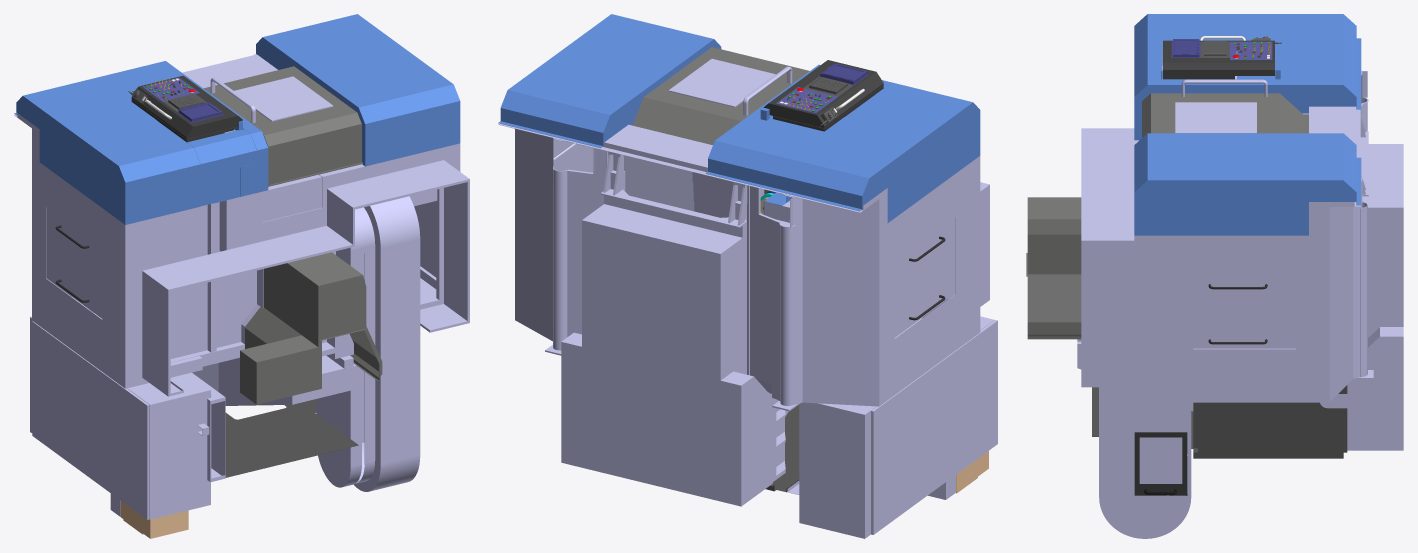
Rendered from CNC.fbx.
3 views of the same model, side by side, from view 1: azimuth 30°, elevation 25°; view 2: azimuth 150°, elevation 25°; view 3: azimuth 270°, elevation 25° (orthographic). The views are drawn at different scales.
Visible parts, largest first — view 1: Part 2, Part 9, Part, Part 29, Part 8, Part 28, Part 30, Part 25, Part 26, Part 27; view 2: Part 2, Part 9, Part, Part 8, Part 28, Part 29, Part 25, Part 26, Part 27, Part 30; view 3: Part 2, Part 9, Part, Part 8, Part 29, Part 28, Part 17, Part 26, Part 25, Part 27.
Boxes of the visible parts, bbox=[...] form: Part 2: bbox=[14, 54, 469, 519]; Part 9: bbox=[14, 14, 460, 224]; Part: bbox=[203, 66, 382, 404]; Part 29: bbox=[225, 399, 358, 477]; Part 8: bbox=[46, 201, 436, 318]; Part 28: bbox=[131, 75, 242, 142]; Part 30: bbox=[120, 500, 188, 538]; Part 25: bbox=[128, 83, 206, 112]; Part 26: bbox=[142, 77, 199, 101]; Part 27: bbox=[177, 102, 223, 122]; Part 2: bbox=[498, 58, 997, 538]; Part 9: bbox=[498, 14, 980, 222]; Part: bbox=[632, 47, 809, 194]; Part 8: bbox=[553, 143, 954, 337]; Part 28: bbox=[763, 60, 883, 131]; Part 29: bbox=[765, 404, 799, 492]; Part 25: bbox=[788, 77, 853, 125]; Part 26: bbox=[776, 87, 837, 113]; Part 27: bbox=[819, 63, 868, 85]; Part 30: bbox=[956, 451, 988, 493]; Part 2: bbox=[1077, 51, 1403, 538]; Part 9: bbox=[1134, 14, 1361, 235]; Part: bbox=[1026, 93, 1308, 339]; Part 8: bbox=[1140, 276, 1295, 483]; Part 29: bbox=[1092, 385, 1347, 458]; Part 28: bbox=[1163, 40, 1274, 79]; Part 17: bbox=[1134, 432, 1187, 495]; Part 26: bbox=[1230, 41, 1272, 60]; Part 25: bbox=[1200, 36, 1281, 59]; Part 27: bbox=[1171, 39, 1200, 57].
Size of the model in its own units: 308 by 337 by 285.
